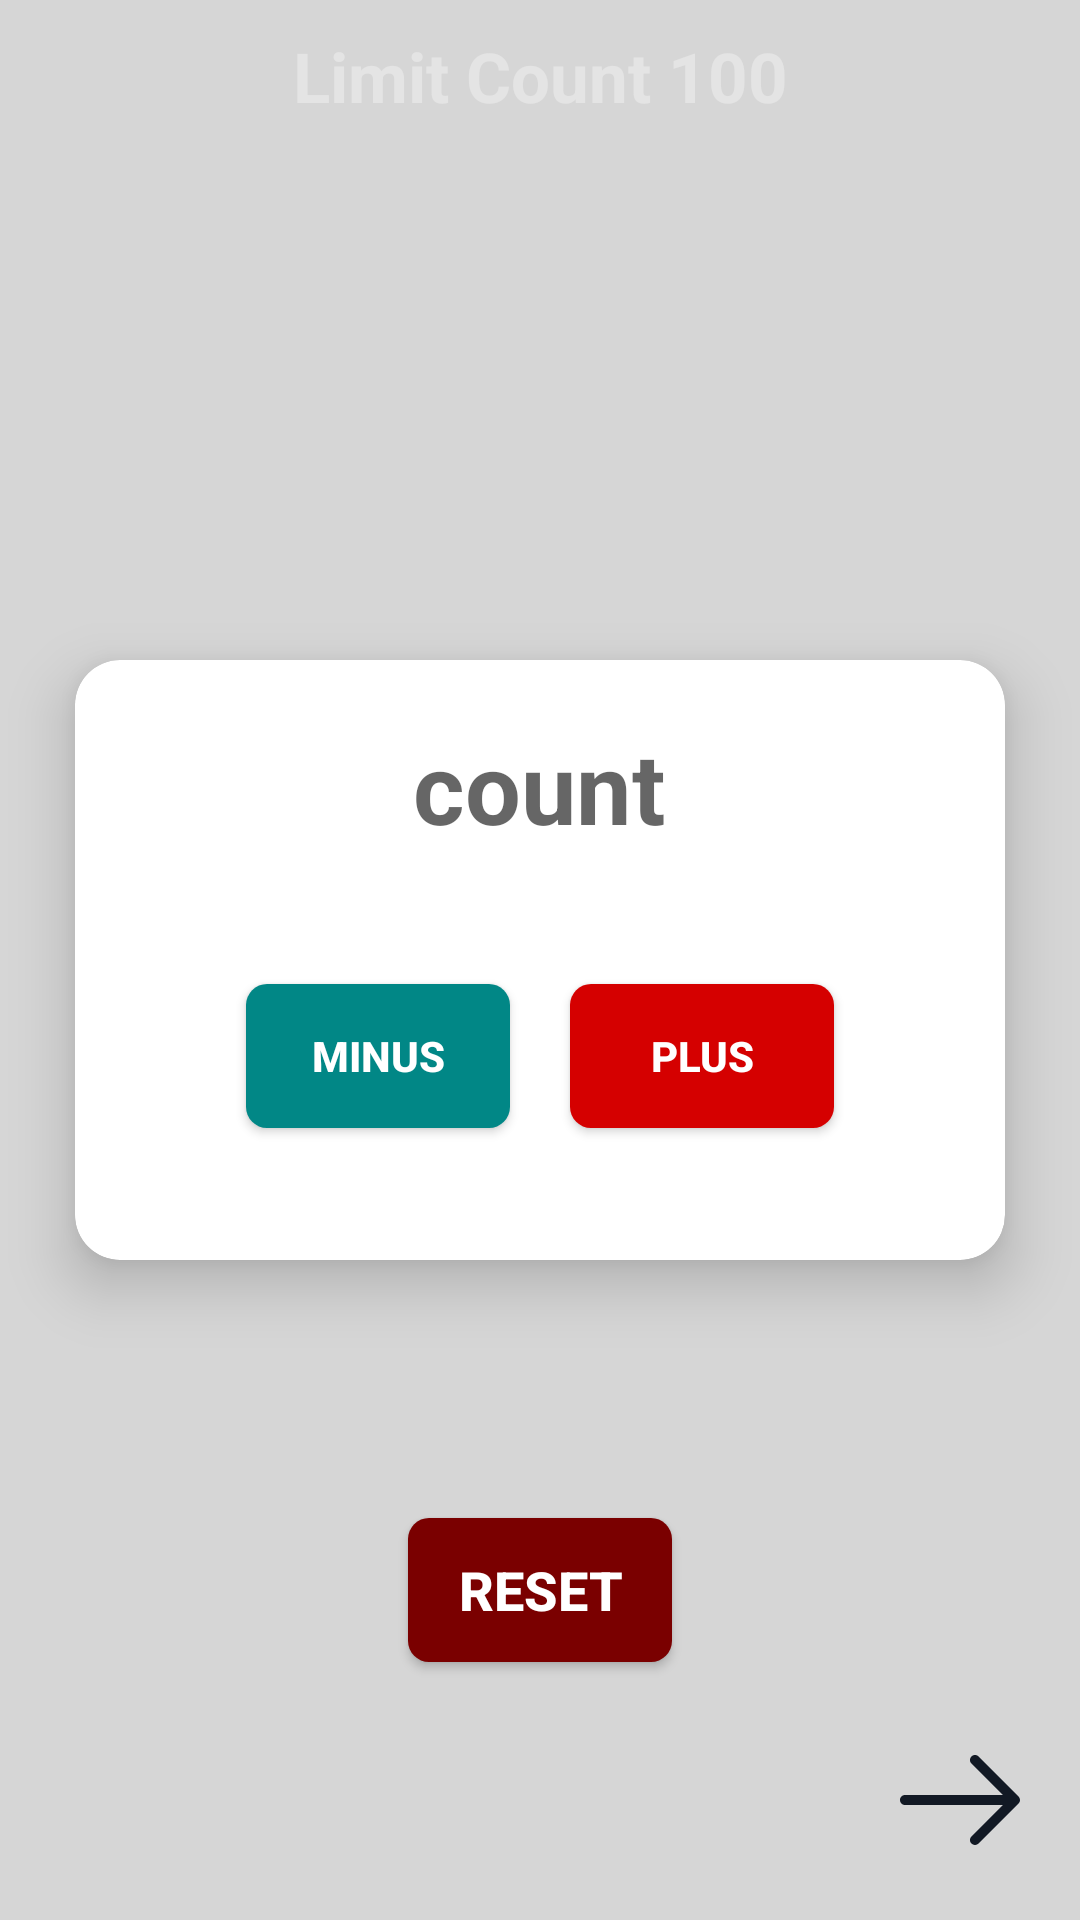

Screen size 1080px×1920px. Icon name, then its center in pixels as (x,y):
arrow right: (960,1800)
